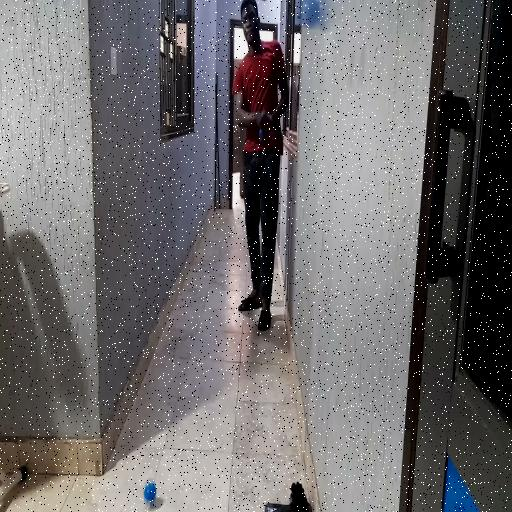plastic-ball: (296, 0, 327, 34)
